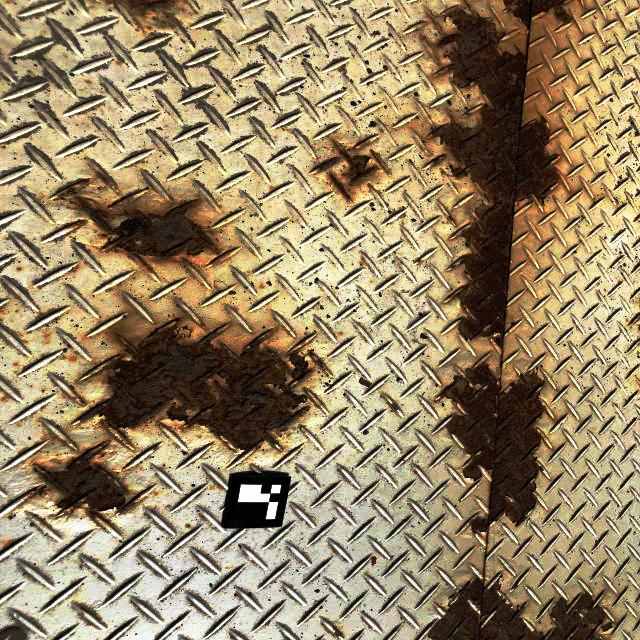Corrosion: (433, 8, 560, 353), (73, 319, 313, 449), (440, 364, 545, 535), (429, 573, 612, 640), (74, 196, 219, 259), (32, 442, 126, 519), (310, 140, 389, 202), (107, 0, 187, 28), (503, 0, 573, 31), (53, 180, 92, 198), (118, 492, 141, 514), (108, 194, 135, 211), (129, 254, 153, 273), (308, 350, 327, 371), (97, 173, 118, 190), (345, 140, 374, 152), (210, 251, 233, 265), (28, 485, 49, 498), (432, 154, 447, 166), (74, 220, 86, 229), (390, 402, 399, 411), (334, 628, 341, 637), (152, 445, 161, 451), (102, 234, 109, 237)
